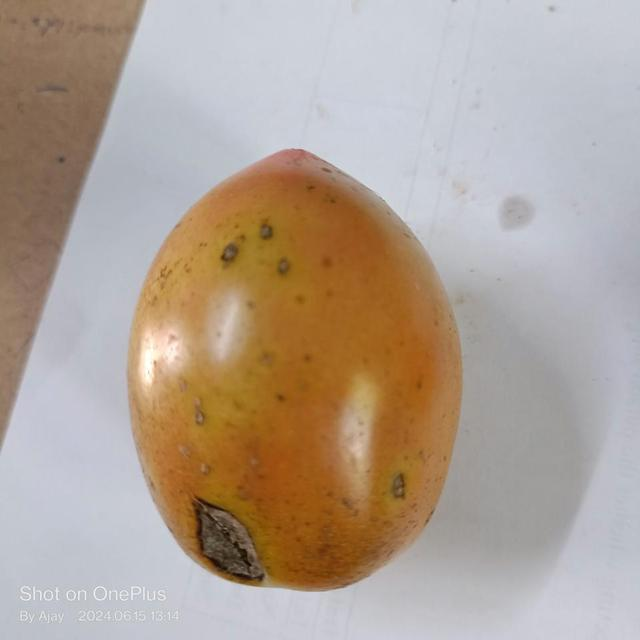Bacterial Spot Fruit: (11, 14, 269, 357)
